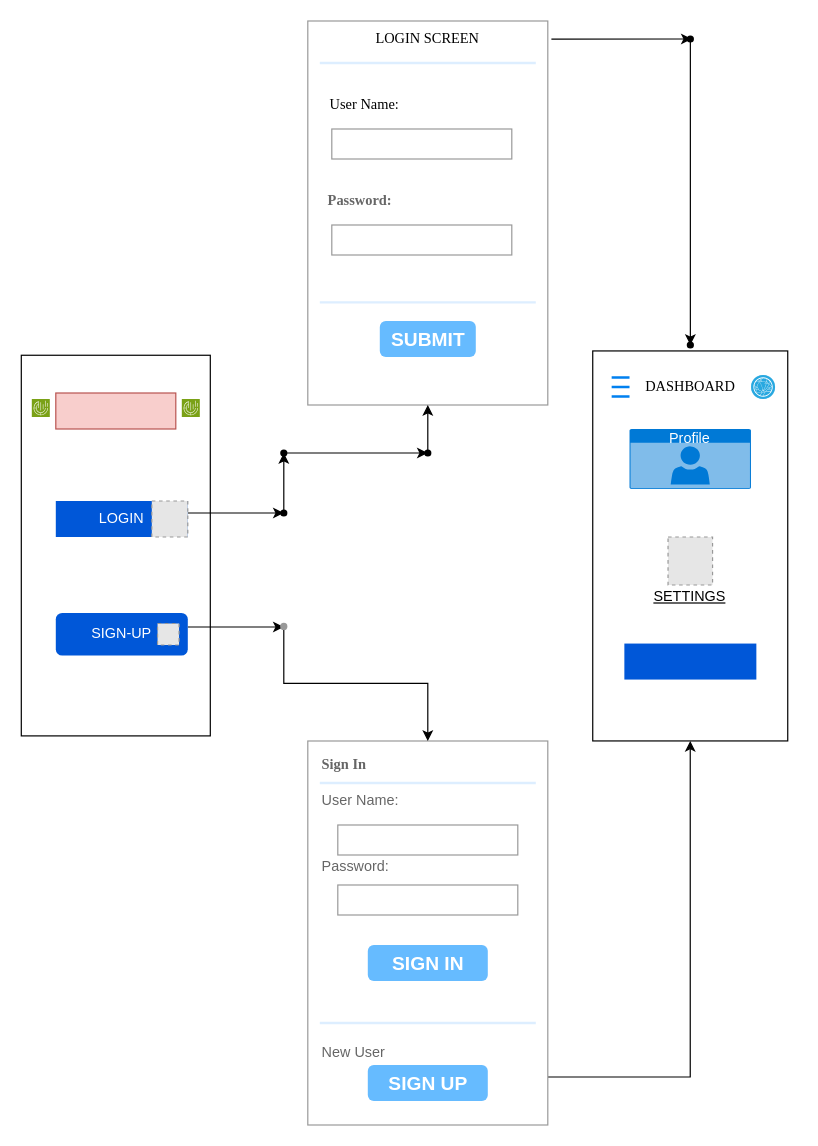
The diagram is 818 pixels wide and 1146 high, and some of its shapes have lost their labels. Grey dashed boxes stand in for pictures. The shapes that lost their labels are listed below. From the top down, each one's box as (x1, y1, x2, y2) in pixels, then its label:
(55, 392, 176, 429): Home Screen
(624, 643, 756, 679): LOG-OUT
